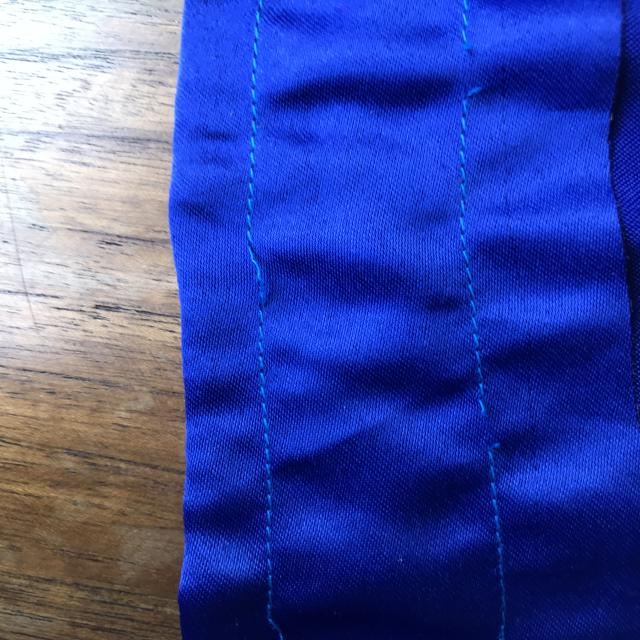broken: (440, 19, 495, 114), (472, 367, 508, 466)
good: (240, 381, 300, 555)
skip: (229, 220, 291, 333)
